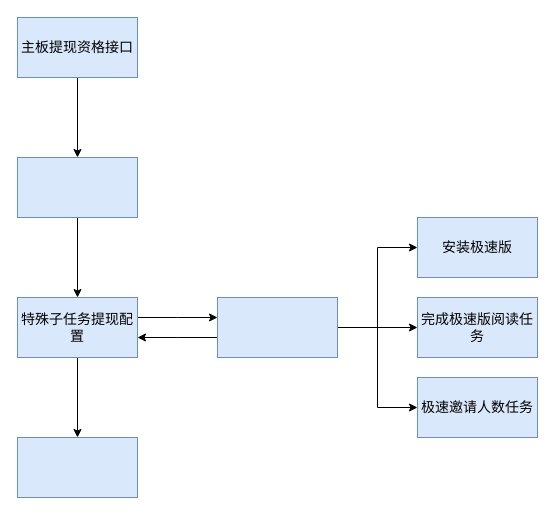
The diagram is 555 pixels wide and 515 high, and some of its shapes have lost their labels. The centre of each missing label's shape, as x and y in pixels:
"子任务工厂" goes at pixel 277 327.
"提现配置合成返回" goes at pixel 77 467.
"获取公共提现配置" goes at pixel 77 187.
